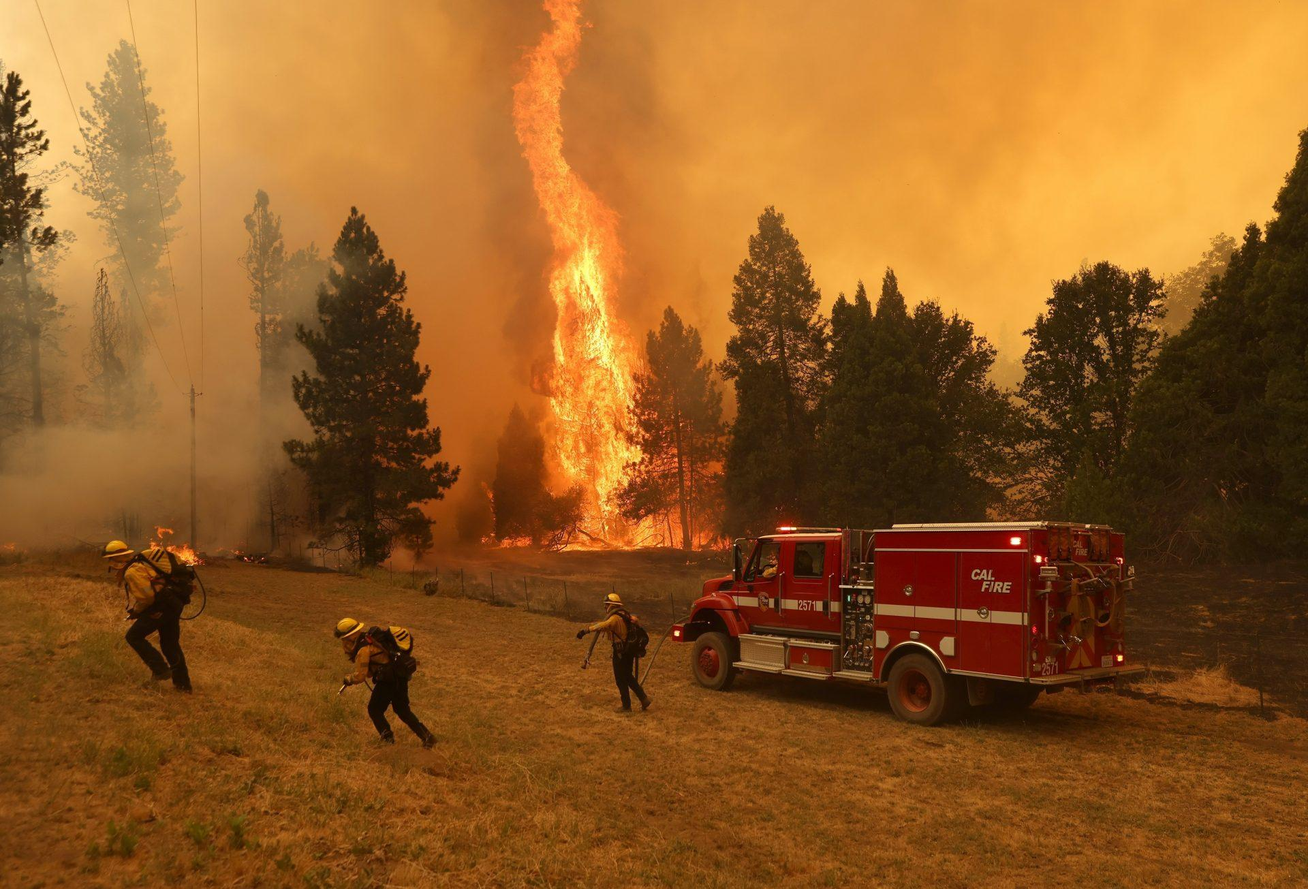fire: (382, 5, 816, 588), (517, 217, 713, 555)
